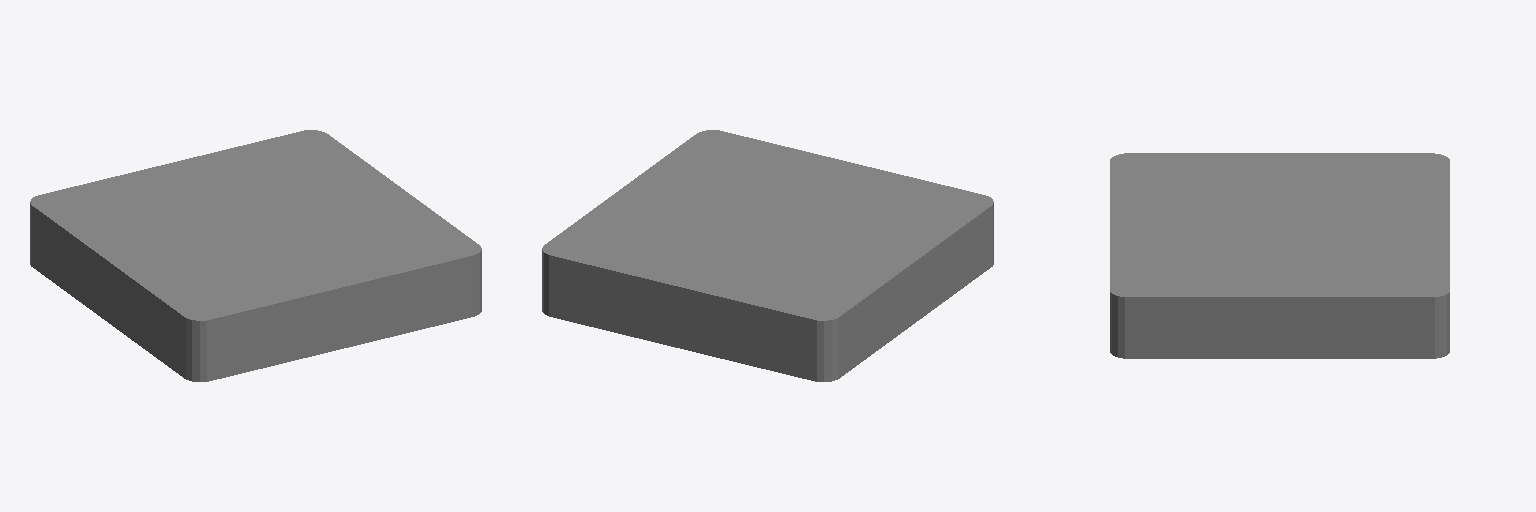
Rendered from mis_obj_OpenBlock_box.obj.
3 renders of one model, left to right at view 1: azimuth 30°, elevation 25°; view 2: azimuth 150°, elevation 25°; view 3: azimuth 270°, elevation 25°, orthographic.
Parts seen in each view (by area): view 1: mis_obj_OpenBlock_box; view 2: mis_obj_OpenBlock_box; view 3: mis_obj_OpenBlock_box.
Part boxes in pixels (bbox=[...]): mis_obj_OpenBlock_box: bbox=[30, 130, 481, 381]; mis_obj_OpenBlock_box: bbox=[542, 130, 993, 381]; mis_obj_OpenBlock_box: bbox=[1110, 153, 1449, 358].
Bounding box in the file's own units: 180 × 36.08 × 180.